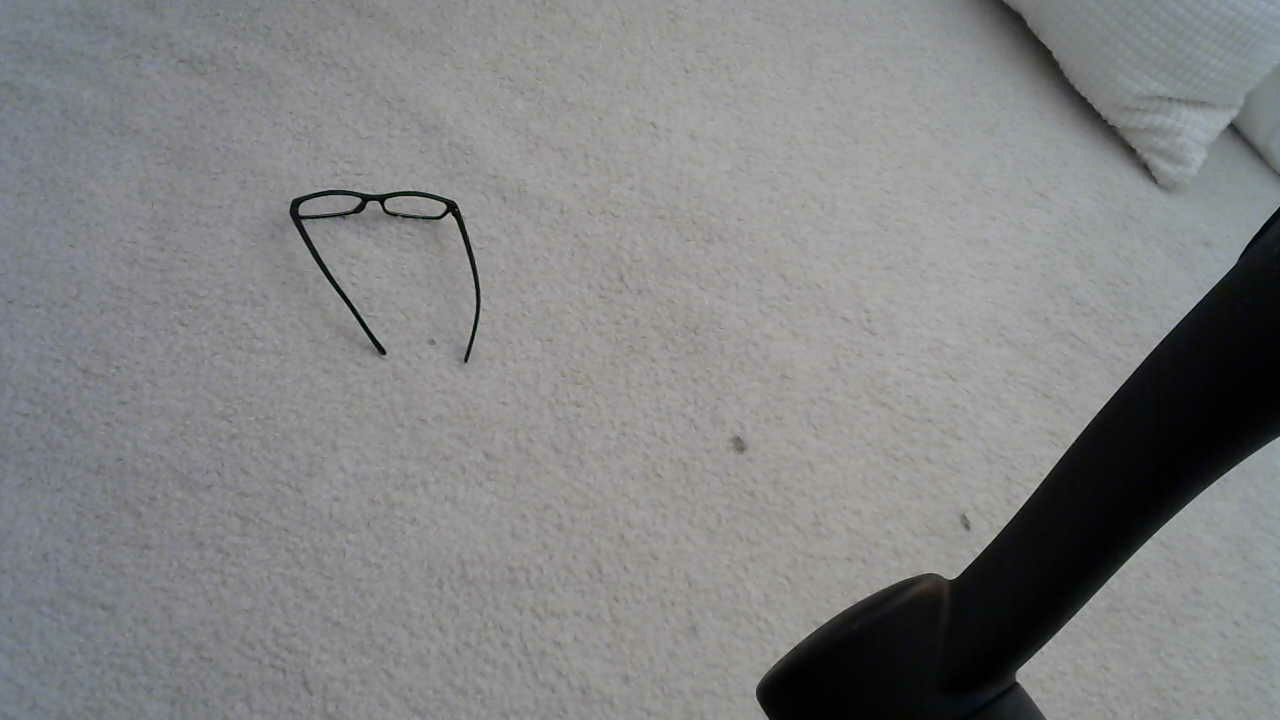Glasses: (264, 195, 519, 392)
